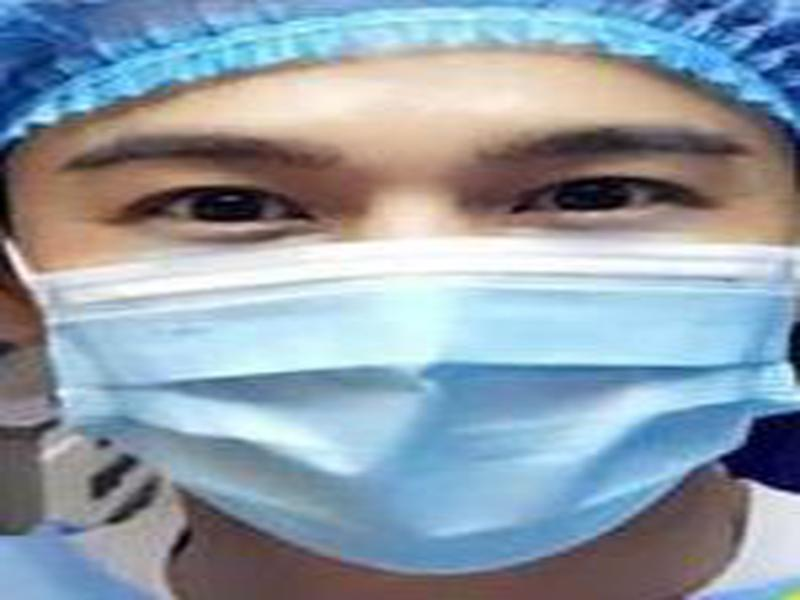with_mask: (1, 52, 797, 582)
